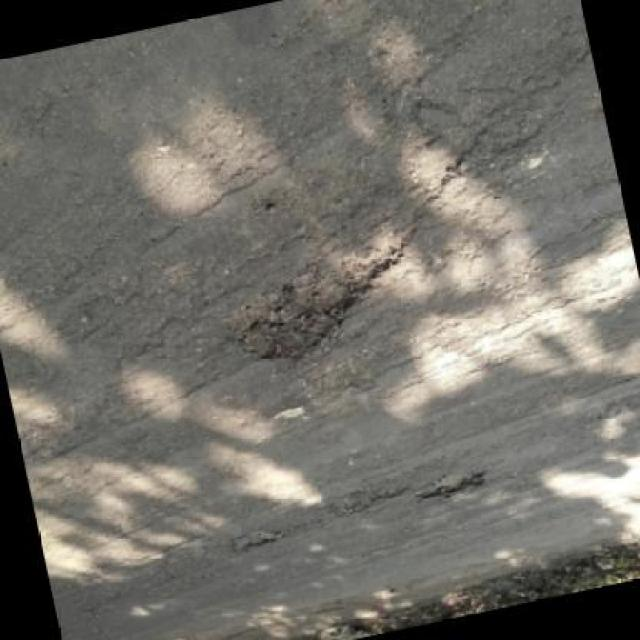pothole: (209, 230, 426, 376), (410, 462, 492, 508), (221, 526, 287, 560)
